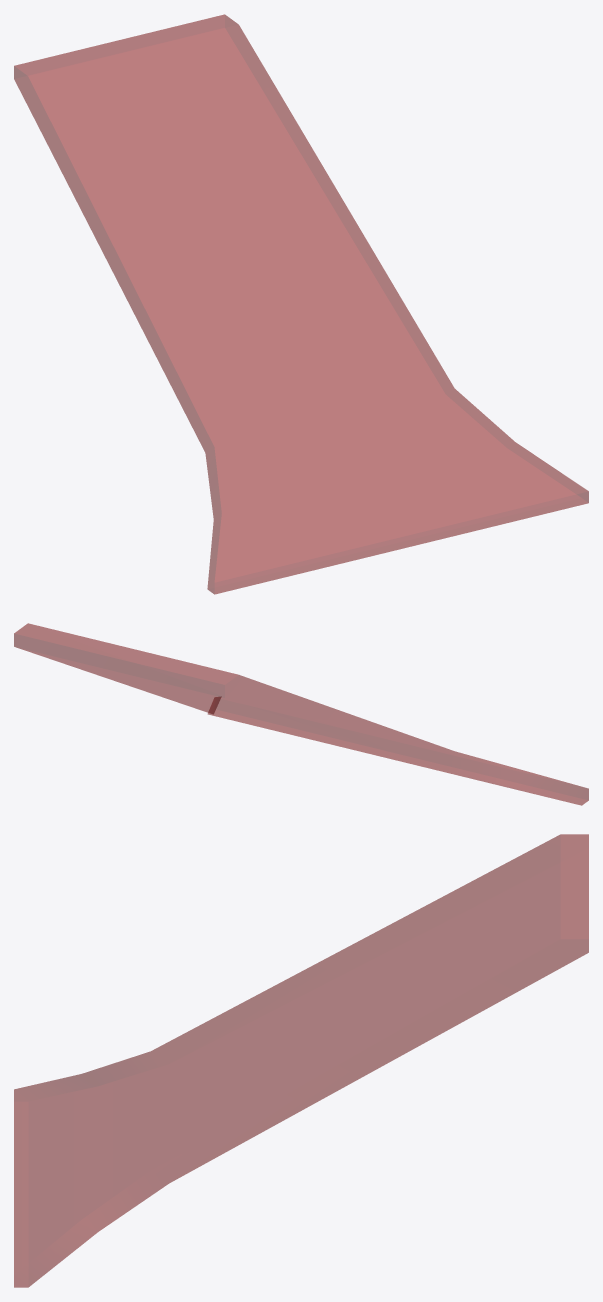
The model's file is SM_Bld_Base_Stairs_Ornate_01_Carpet_Collision.fbx.
3 views of the same model, one above another, from view 1: azimuth 30°, elevation 25°; view 2: azimuth 150°, elevation 25°; view 3: azimuth 270°, elevation 25° (orthographic).
Visible parts, largest first — view 1: SM_Bld_Base_Stairs_Ornate_01_Carpet_Collision; view 2: SM_Bld_Base_Stairs_Ornate_01_Carpet_Collision; view 3: SM_Bld_Base_Stairs_Ornate_01_Carpet_Collision.
Part boxes in pixels (x1,y1,x2,y2): SM_Bld_Base_Stairs_Ornate_01_Carpet_Collision: (14, 14, 588, 594); SM_Bld_Base_Stairs_Ornate_01_Carpet_Collision: (14, 623, 588, 805); SM_Bld_Base_Stairs_Ornate_01_Carpet_Collision: (14, 834, 588, 1287).
Size of the model in its own units: 390 by 300 by 509.
